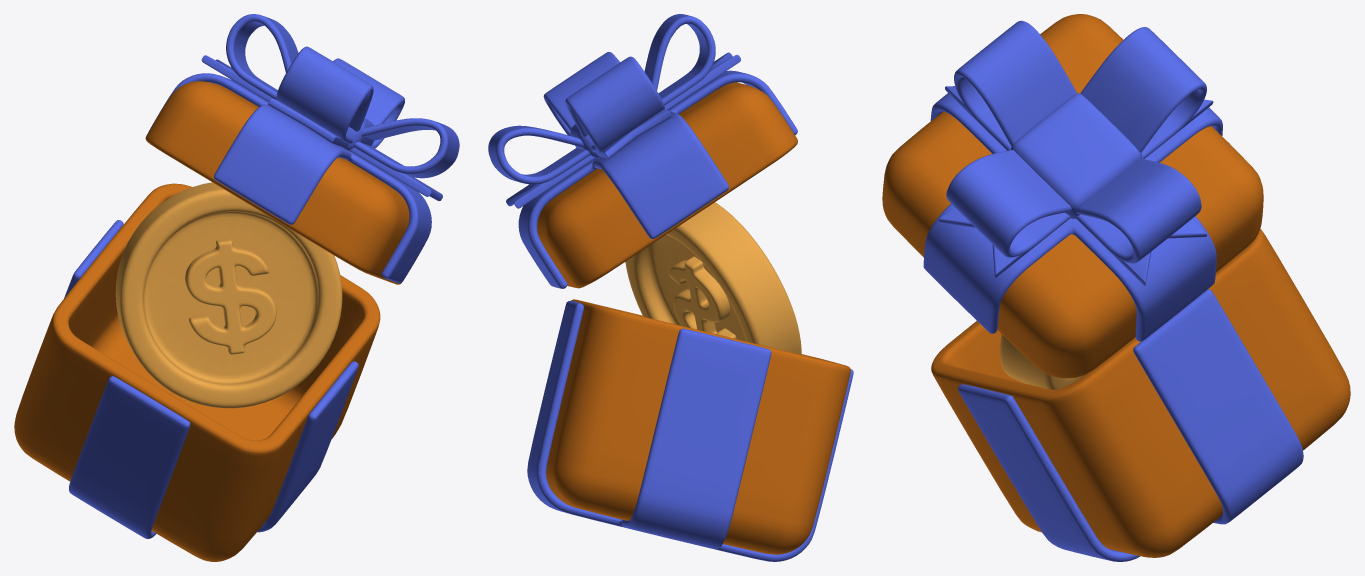
3 renders of one model, left to right at view 1: azimuth 30°, elevation 25°; view 2: azimuth 150°, elevation 25°; view 3: azimuth 270°, elevation 25°, orthographic. The views are drawn at different scales.
Parts seen in each view (by area): view 1: Cube.059, Cylinder.172, Cube.060, Cube.061, Cube.062, Cube.064, mon stack.142, Plane.013, Plane.014; view 2: Cube.059, Cube.060, Cube.061, Cube.062, Cylinder.172, Cube.064, mon stack.142, Plane.014, Plane.013; view 3: Cube.059, Cube.064, Cube.061, Cube.060, Cube.062, Cube.063, Cylinder.172, Plane.014, Plane.013.
Boxes of the visible parts, bbox=[...] form: Cube.059: bbox=[14, 183, 380, 561]; Cylinder.172: bbox=[115, 182, 342, 408]; Cube.060: bbox=[64, 220, 358, 538]; Cube.061: bbox=[145, 81, 409, 284]; Cube.062: bbox=[149, 73, 431, 283]; Cube.064: bbox=[226, 14, 459, 178]; mon stack.142: bbox=[185, 238, 276, 354]; Plane.013: bbox=[201, 55, 442, 200]; Plane.014: bbox=[268, 98, 348, 148]; Cube.059: bbox=[546, 299, 850, 554]; Cube.060: bbox=[527, 300, 853, 561]; Cube.061: bbox=[537, 82, 797, 288]; Cube.062: bbox=[518, 70, 797, 288]; Cylinder.172: bbox=[625, 202, 801, 354]; Cube.064: bbox=[488, 14, 715, 184]; mon stack.142: bbox=[669, 256, 736, 338]; Plane.014: bbox=[506, 52, 740, 208]; Plane.013: bbox=[596, 109, 671, 158]; Cube.059: bbox=[931, 229, 1350, 557]; Cube.064: bbox=[946, 20, 1206, 263]; Cube.061: bbox=[882, 14, 1263, 378]; Cube.060: bbox=[958, 289, 1303, 561]; Cube.062: bbox=[923, 93, 1222, 341]; Cube.063: bbox=[1010, 93, 1142, 218]; Cylinder.172: bbox=[1000, 334, 1084, 389]; Plane.014: bbox=[945, 86, 1206, 285]; Plane.013: bbox=[938, 99, 1213, 277].
Bounding box in the file's own units: 1.64 × 2.22 × 1.71.
